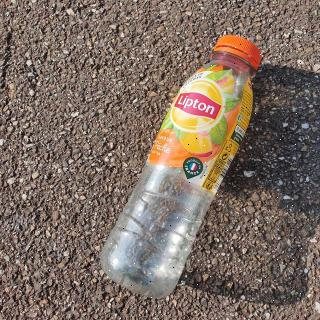Plastic-bottle: (97, 30, 263, 306)
